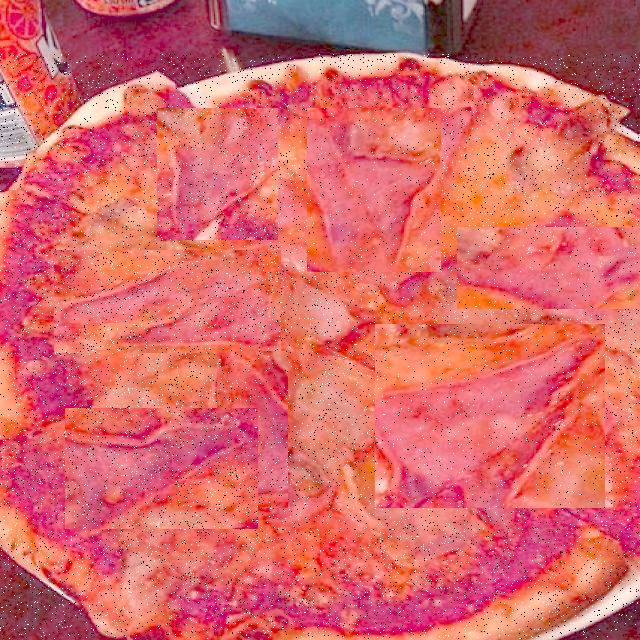Ham: (375, 324, 605, 508), (54, 250, 281, 353), (65, 408, 258, 529), (307, 108, 441, 272), (158, 108, 280, 240), (457, 227, 640, 309), (218, 351, 290, 508)
Pizza: (0, 54, 640, 640)
